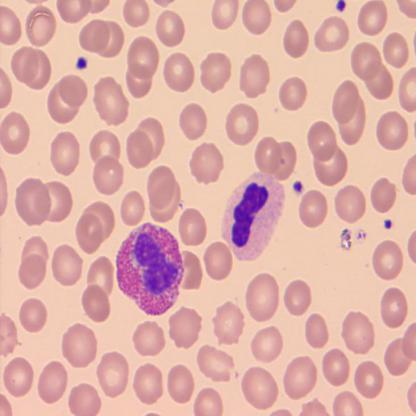Eosinophil: (115, 222, 185, 316)
